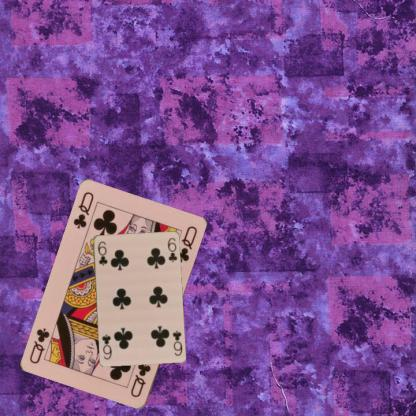6c: (95, 239, 109, 266), (170, 327, 183, 356)
Qc: (70, 190, 96, 230), (128, 360, 152, 399)
